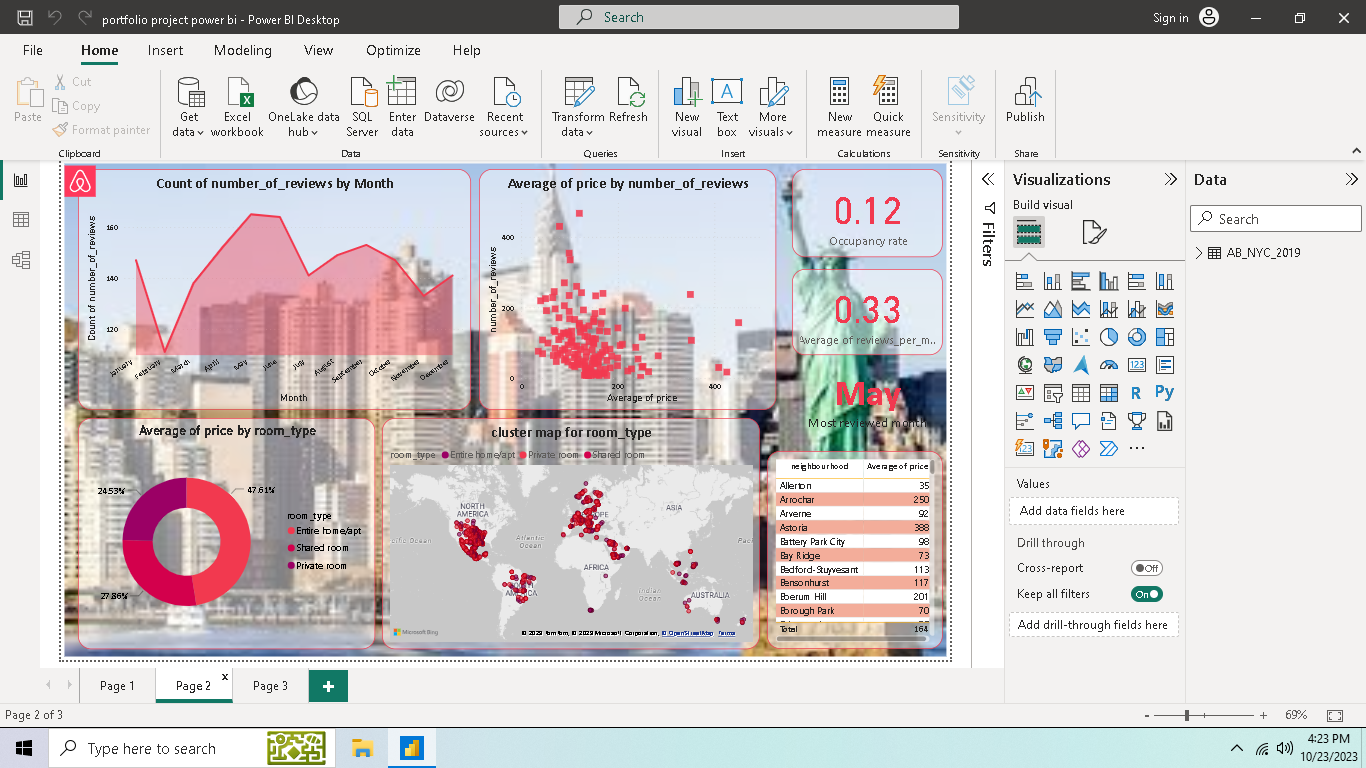

This screenshot's page, from the dashboard's own definition file:
{"tool":"powerbi","page":{"name":"Page 2","canvas":[1280,720],"ordinal":1},"visuals":[{"type":"image","box":[0,0,1280.2,720],"z":0},{"type":"card","fields":{"Values":["AB_NYC_2019.Occupancy rate"]},"box":[1052.6,13,217.4,126.7],"z":1000},{"type":"card","fields":{"Values":["Avg(AB_NYC_2019.reviews_per_month)"]},"box":[1052.6,157,217.4,123.8],"z":2000},{"type":"areaChart","fields":{"Y":["CountNonNull(AB_NYC_2019.number_of_reviews)"],"Category":["AB_NYC_2019.last_review.Variation.Date Hierarchy.Month"]},"box":[24.5,13,565.9,347],"z":3000},{"type":"scatterChart","fields":{"X":["Avg(AB_NYC_2019.price)"],"Y":["AB_NYC_2019.number_of_reviews"]},"box":[601.9,13,427.7,347],"z":4000},{"type":"textbox","box":[1052.6,296.6,217.4,118.1],"z":5000},{"type":"donutChart","fields":{"Category":["AB_NYC_2019.room_type"],"Y":["Avg(AB_NYC_2019.price)"]},"box":[24.5,371.5,427.7,332.6],"z":6000},{"type":"tableEx","fields":{"Values":["AB_NYC_2019.neighbourhood","Avg(AB_NYC_2019.price)"]},"box":[1016.6,419,253.4,285.1],"z":7000},{"type":"map","title":"cluster map for room_type","fields":{"Category":["AB_NYC_2019.latitude","AB_NYC_2019.longitude"],"Series":["AB_NYC_2019.room_type"]},"box":[462.2,371.5,544.3,332.6],"z":8000},{"type":"image","box":[0,0,54.7,60.5],"z":9000}]}

Visuals, with their boxes on the page's 1280x720 design canvas (x1, y1, x2, y2). These are canvas units, not pixel positions in the 1366x768 screenshot, which may show the page scaled, cropped or inside an application window:
image: (x1=0, y1=0, x2=1280, y2=720)
card - AB_NYC_2019.Occupancy rate: (x1=1053, y1=13, x2=1270, y2=140)
card - Avg(AB_NYC_2019.reviews_per_month): (x1=1053, y1=157, x2=1270, y2=281)
areaChart - CountNonNull(AB_NYC_2019.number_of_reviews) x AB_NYC_2019.last_review.Variation.Date Hierarchy.Month: (x1=24, y1=13, x2=590, y2=360)
scatterChart - Avg(AB_NYC_2019.price) x AB_NYC_2019.number_of_reviews: (x1=602, y1=13, x2=1030, y2=360)
textbox: (x1=1053, y1=297, x2=1270, y2=415)
donutChart - AB_NYC_2019.room_type x Avg(AB_NYC_2019.price): (x1=24, y1=372, x2=452, y2=704)
tableEx - AB_NYC_2019.neighbourhood x Avg(AB_NYC_2019.price): (x1=1017, y1=419, x2=1270, y2=704)
"cluster map for room_type" map: (x1=462, y1=372, x2=1006, y2=704)
image: (x1=0, y1=0, x2=55, y2=60)
